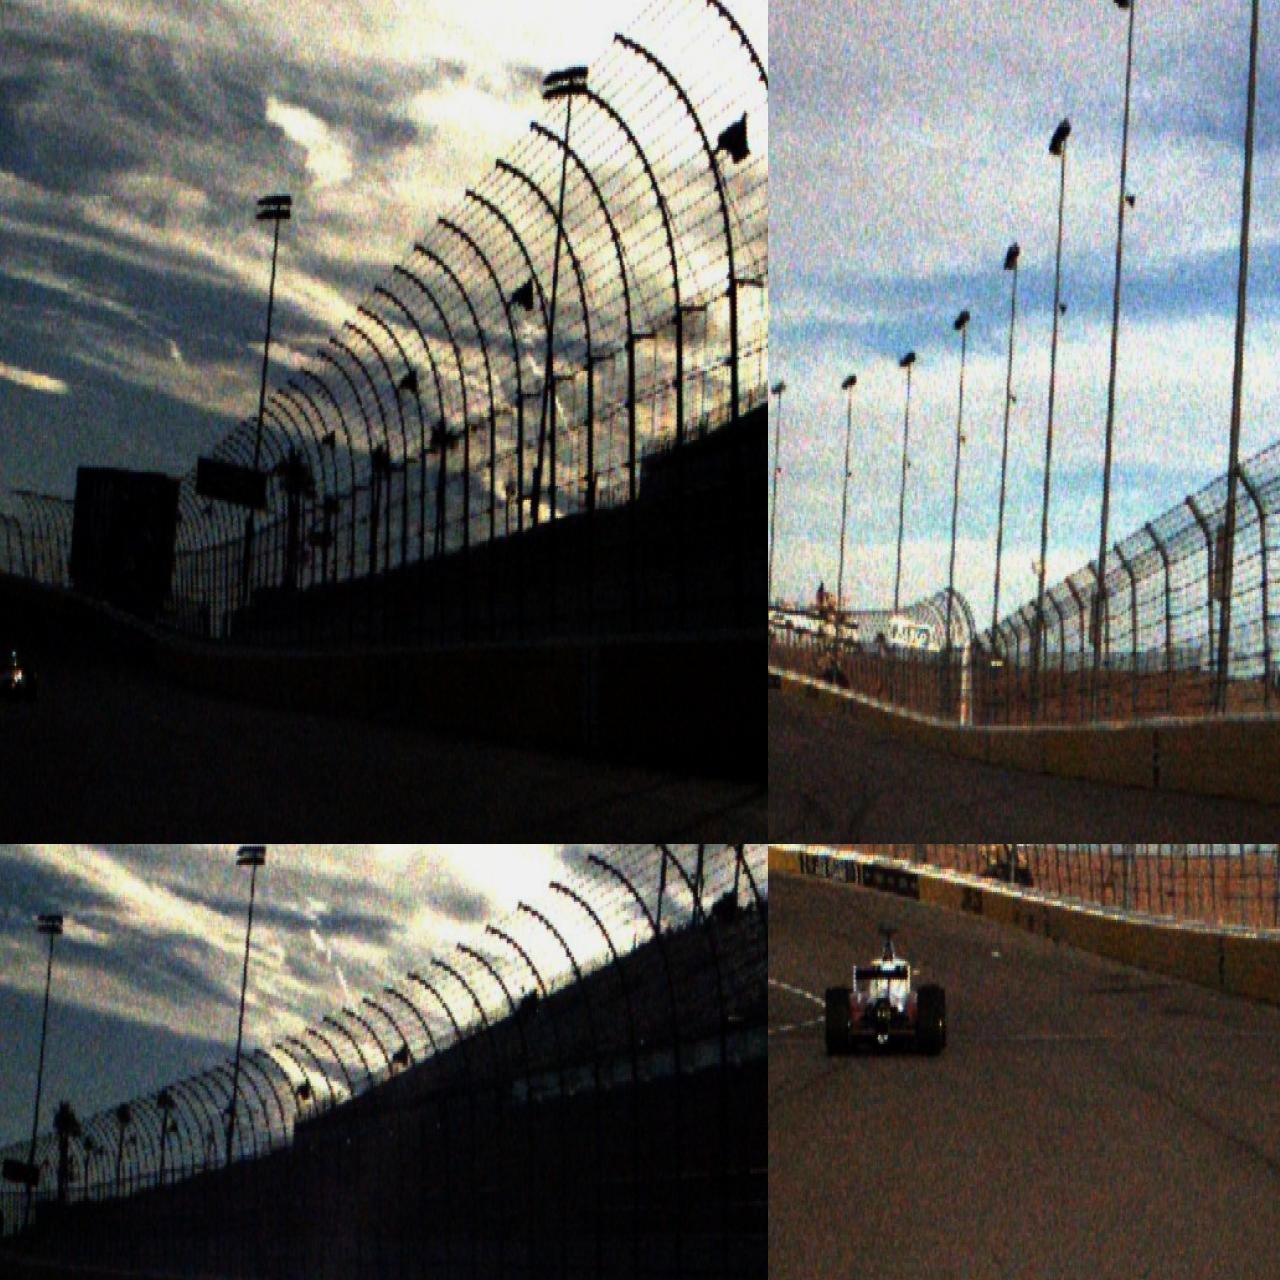AV: (826, 927, 946, 1057), (0, 647, 38, 704)
Wheel: (918, 986, 942, 1057), (826, 988, 850, 1056), (26, 670, 38, 704)
